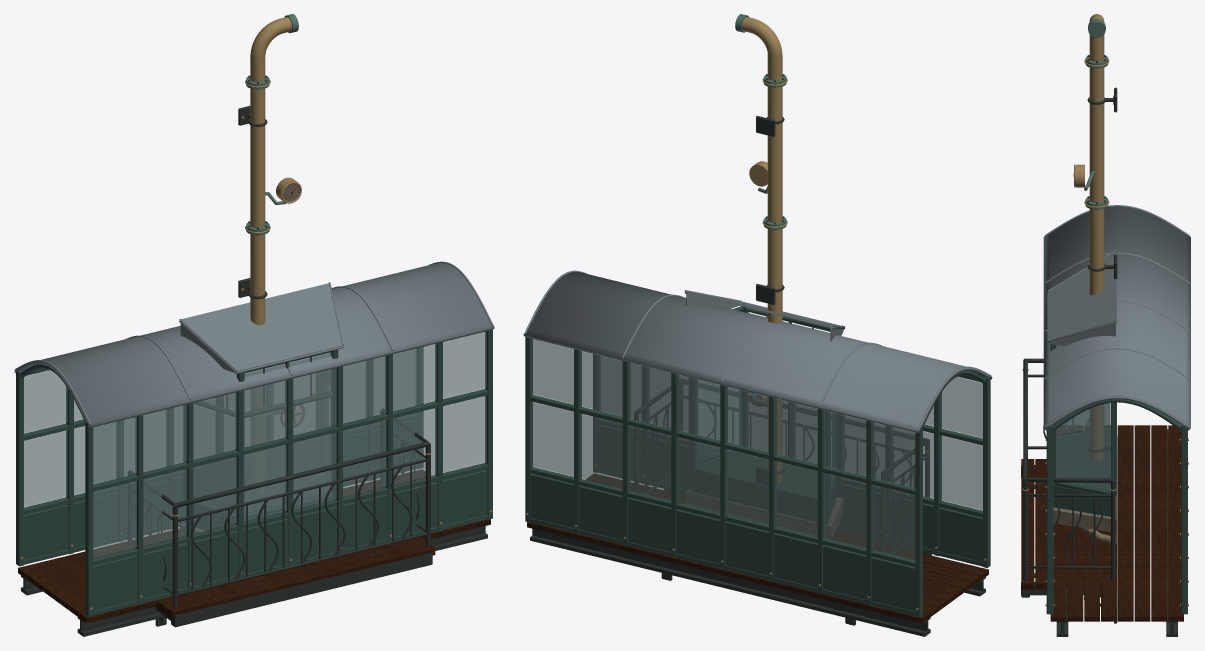
The model's file is architecture-accents-v1.glb.
3 views of the same model, side by side, from view 1: azimuth 30°, elevation 25°; view 2: azimuth 150°, elevation 25°; view 3: azimuth 270°, elevation 25° (orthographic). The views are drawn at different scales.
Visible parts, largest first — view 1: Accent_Gallery_Accent deep green joinery, Accent_Gallery_Accent smoked blue green glass, Accent_Gallery_Accent weathered zinc, Accent_Balcony_Accent black cast iron, Accent_BayWindow_Accent smoked blue green glass, Accent_BayWindow_Accent weathered zinc, Accent_SteamRiser_Accent restrained aged brass, Accent_Balcony_Accent weathered walnut, Accent_Gallery_Accent weathered walnut, Accent_BayWindow_Accent deep green joinery, Accent_Gallery_Accent black cast iron, Accent_SteamRiser_Accent black cast iron; view 2: Accent_Gallery_Accent deep green joinery, Accent_Gallery_Accent smoked blue green glass, Accent_Gallery_Accent weathered zinc, Accent_BayWindow_Accent deep green joinery, Accent_Gallery_Accent weathered walnut, Accent_Gallery_Accent black cast iron, Accent_SteamRiser_Accent restrained aged brass, Accent_BayWindow_Accent smoked blue green glass, Accent_Balcony_Accent black cast iron, Accent_BayWindow_Accent grey brown limestone, Accent_BayWindow_Accent weathered zinc, Accent_SteamRiser_Accent black cast iron (+1 smaller); view 3: Accent_Gallery_Accent weathered zinc, Accent_Gallery_Accent weathered walnut, Accent_Balcony_Accent weathered walnut, Accent_SteamRiser_Accent restrained aged brass, Accent_BayWindow_Accent weathered zinc, Accent_BayWindow_Accent deep green joinery, Accent_Balcony_Accent black cast iron, Accent_BayWindow_Accent smoked blue green glass, Accent_Gallery_Accent deep green joinery, Accent_BayWindow_Accent grey brown limestone, Accent_Gallery_Accent black cast iron, Accent_SteamRiser_Accent oxidised copper (+1 smaller).
Part boxes in pixels (x1,y1,x2,y2): Accent_Gallery_Accent deep green joinery: (16, 330, 492, 616); Accent_Gallery_Accent smoked blue green glass: (24, 332, 486, 557); Accent_Gallery_Accent weathered zinc: (14, 261, 494, 427); Accent_Balcony_Accent black cast iron: (127, 408, 432, 627); Accent_BayWindow_Accent smoked blue green glass: (193, 353, 331, 511); Accent_BayWindow_Accent weathered zinc: (179, 282, 343, 373); Accent_SteamRiser_Accent restrained aged brass: (241, 17, 301, 451); Accent_Balcony_Accent weathered walnut: (155, 537, 435, 618); Accent_Gallery_Accent weathered walnut: (18, 469, 490, 623); Accent_BayWindow_Accent deep green joinery: (183, 349, 338, 530); Accent_Gallery_Accent black cast iron: (21, 526, 487, 636); Accent_SteamRiser_Accent black cast iron: (238, 75, 299, 298); Accent_Gallery_Accent deep green joinery: (525, 337, 990, 617); Accent_Gallery_Accent smoked blue green glass: (531, 339, 982, 559); Accent_Gallery_Accent weathered zinc: (523, 270, 992, 433); Accent_BayWindow_Accent deep green joinery: (688, 306, 838, 524); Accent_Gallery_Accent weathered walnut: (527, 473, 988, 623); Accent_Gallery_Accent black cast iron: (530, 528, 985, 636); Accent_SteamRiser_Accent restrained aged brass: (742, 17, 787, 482); Accent_BayWindow_Accent smoked blue green glass: (697, 312, 835, 483); Accent_Balcony_Accent black cast iron: (634, 388, 931, 625); Accent_BayWindow_Accent grey brown limestone: (685, 489, 843, 539); Accent_BayWindow_Accent weathered zinc: (684, 290, 845, 341); Accent_SteamRiser_Accent black cast iron: (756, 74, 784, 485); Accent_Gallery_Accent weathered zinc: (1043, 205, 1190, 430); Accent_Gallery_Accent weathered walnut: (1050, 425, 1183, 621); Accent_Balcony_Accent weathered walnut: (1021, 459, 1117, 589); Accent_SteamRiser_Accent restrained aged brass: (1074, 14, 1113, 460); Accent_BayWindow_Accent weathered zinc: (1047, 250, 1117, 346); Accent_BayWindow_Accent deep green joinery: (1050, 344, 1116, 516); Accent_Balcony_Accent black cast iron: (1021, 358, 1117, 623); Accent_BayWindow_Accent smoked blue green glass: (1056, 346, 1110, 489); Accent_Gallery_Accent deep green joinery: (1046, 399, 1187, 614); Accent_BayWindow_Accent grey brown limestone: (1053, 496, 1116, 543); Accent_Gallery_Accent black cast iron: (1056, 429, 1177, 636); Accent_SteamRiser_Accent oxidised copper: (1084, 19, 1108, 209).
Bounding box in the file's own units: 4 × 5.55 × 1.5.
9 materials, 2 textured.
